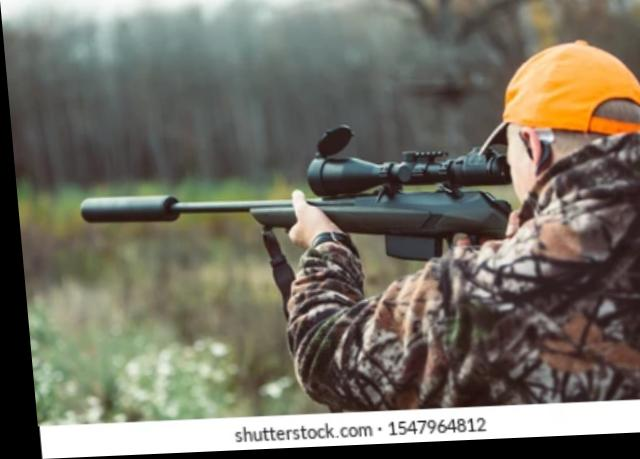other: (271, 40, 640, 414)
